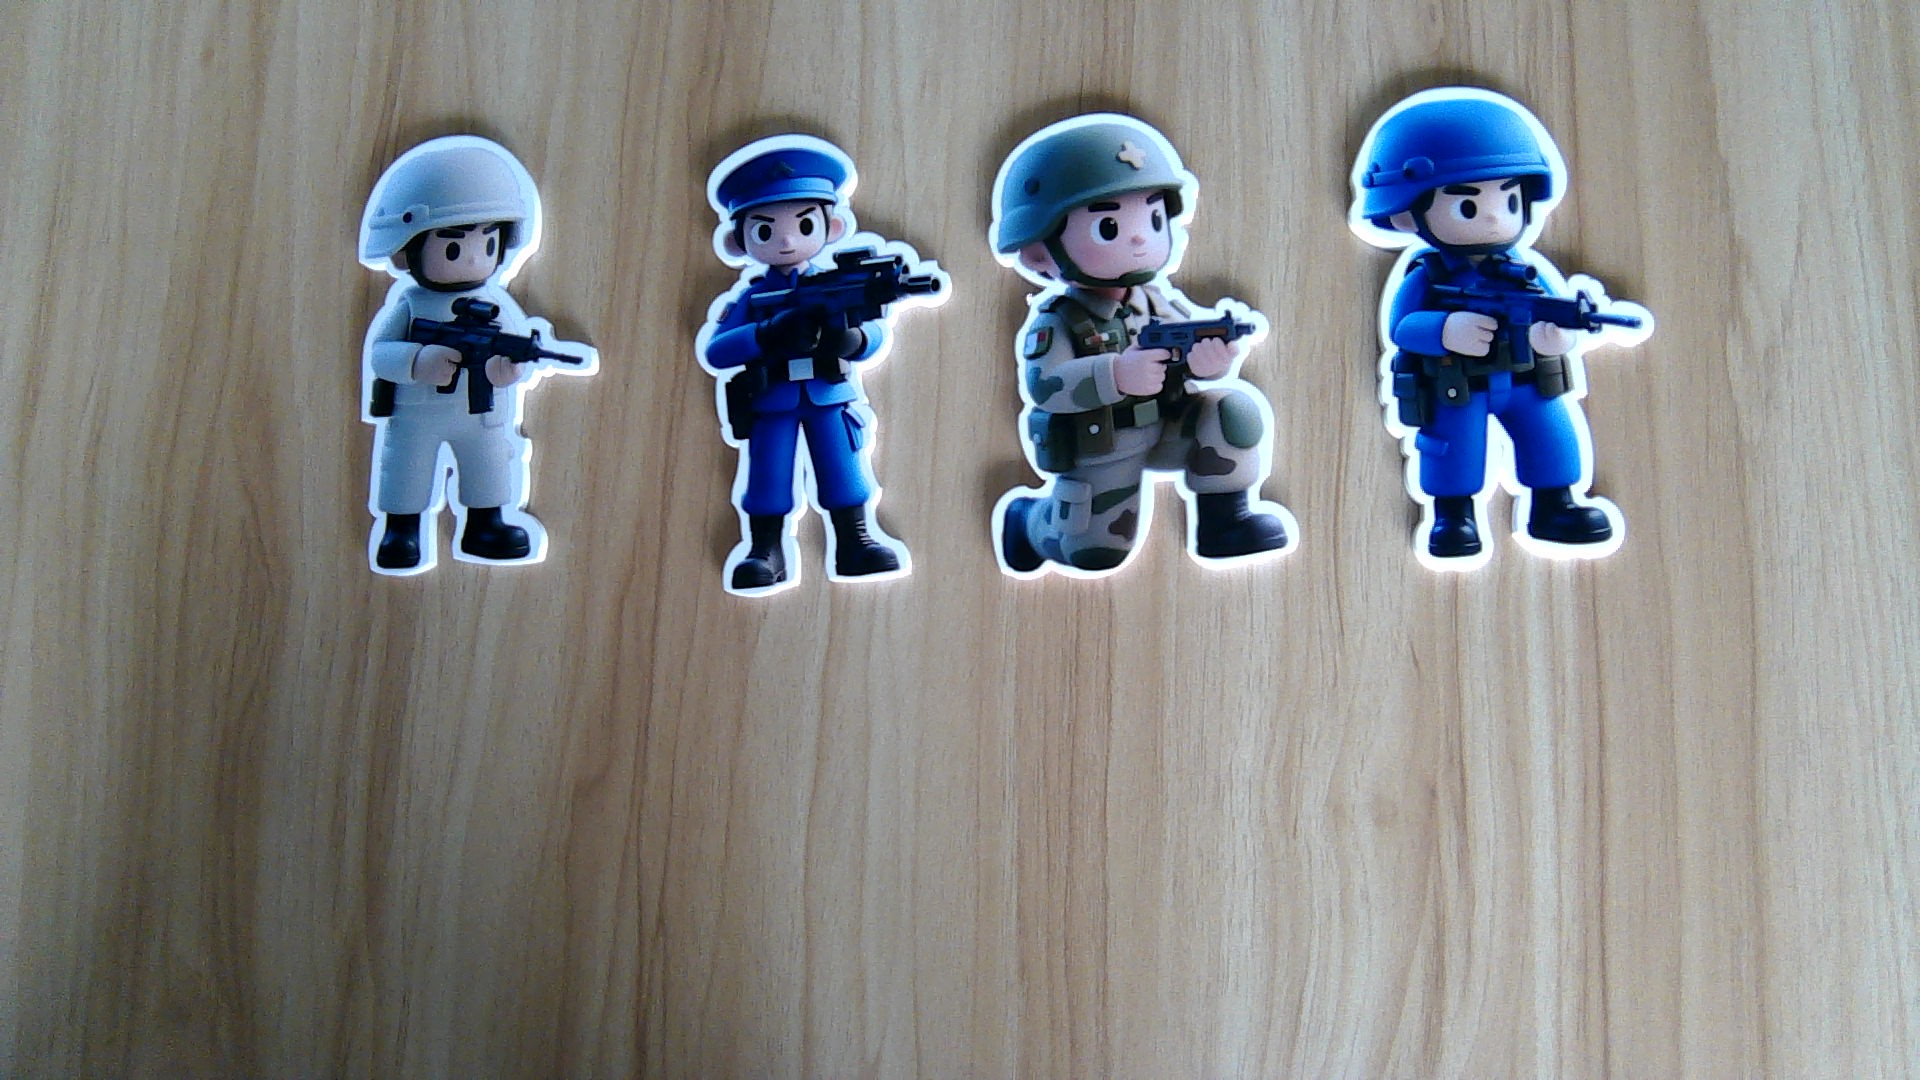人质: (342, 287, 596, 576)
友军: (980, 289, 1298, 584)
敌人2: (1364, 243, 1664, 574), (683, 264, 949, 603)
